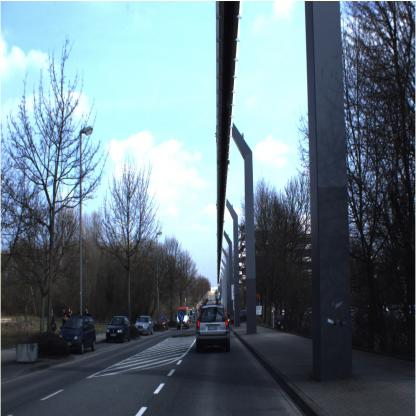keep right: (178, 311, 184, 322)
